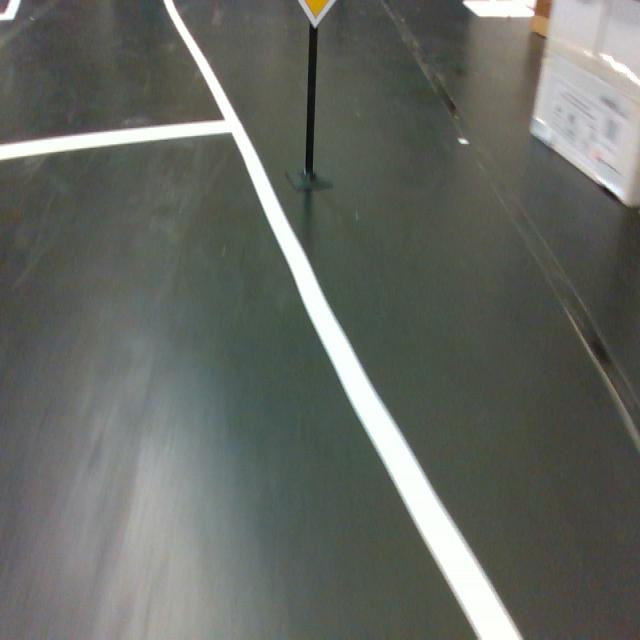parking-sign: (298, 0, 337, 29)
